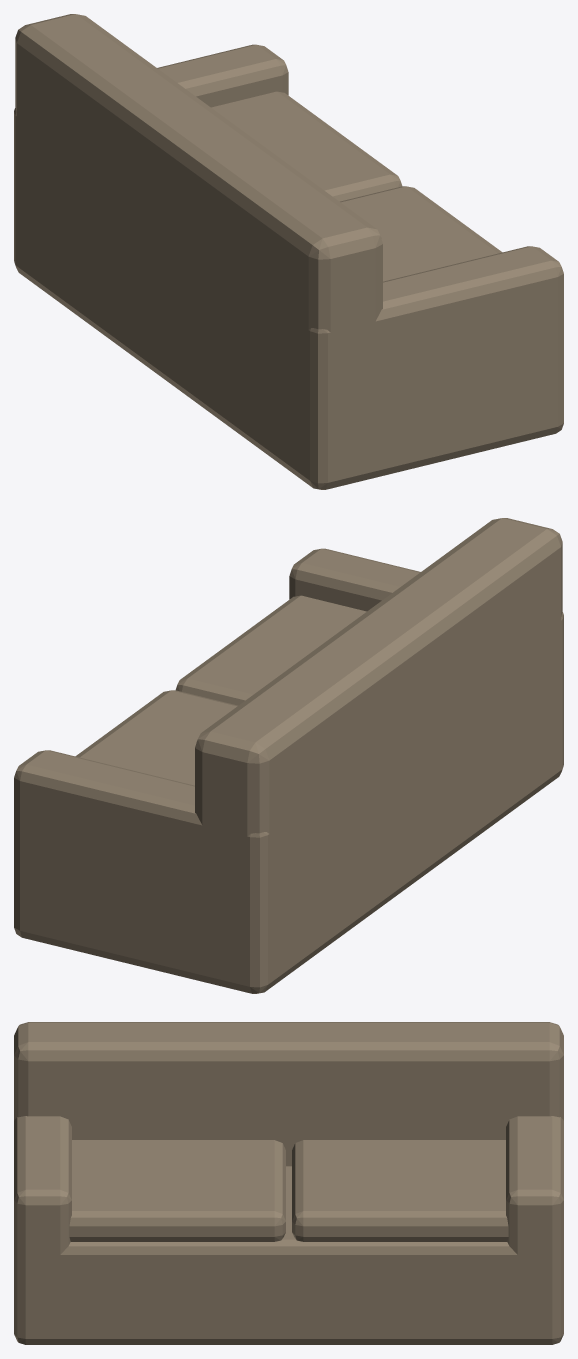
Rendered from couch.glb.
The picture shows the model from 3 angles, top to bottom: view 1: azimuth 30°, elevation 25°; view 2: azimuth 150°, elevation 25°; view 3: azimuth 270°, elevation 25°; orthographic projection. The views are drawn at different scales.
Parts seen in each view (by area): view 1: couch; view 2: couch; view 3: couch.
Part boxes in pixels (x1,y1,x2,y2): couch: [14, 14, 563, 489]; couch: [14, 518, 563, 993]; couch: [14, 1022, 563, 1344].
Size of the model in its own units: 0.9 by 0.85 by 1.9.
